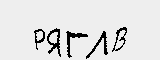В: (111, 25, 128, 53)
Г: (64, 28, 89, 60)
Л: (86, 28, 108, 60)
Р: (32, 27, 45, 53)
Я: (46, 28, 62, 59)
